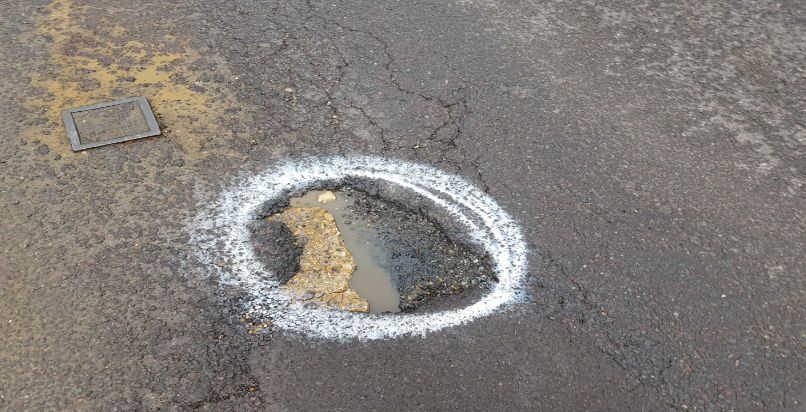pothole: (256, 173, 503, 322)
